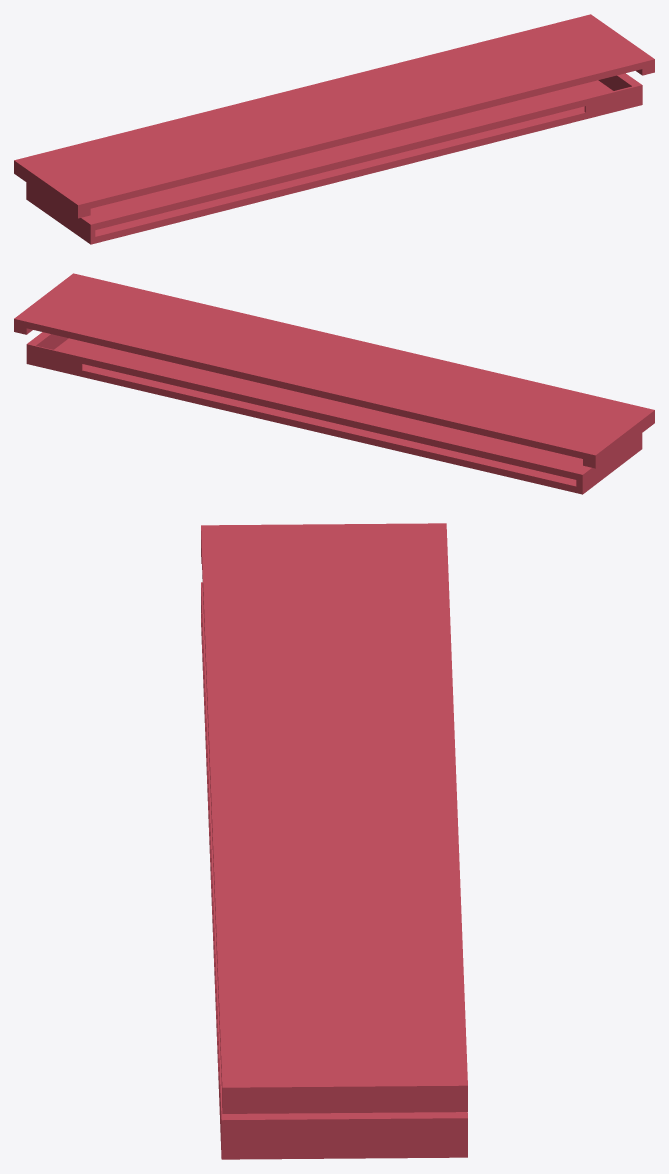
Rendered from Compartment Design #2.glb.
The picture shows the model from 3 angles, top to bottom: view 1: azimuth 30°, elevation 25°; view 2: azimuth 150°, elevation 25°; view 3: azimuth 270°, elevation 25°; orthographic projection. The views are drawn at different scales.
Parts seen in each view (by area): view 1: Mesh_Mesh_head_geo.001_lambert2SG.001; view 2: Mesh_Mesh_head_geo.001_lambert2SG.001; view 3: Mesh_Mesh_head_geo.001_lambert2SG.001.
Boxes of the visible parts, left/top/right/bottom form: Mesh_Mesh_head_geo.001_lambert2SG.001: left=14, top=14, right=654, bottom=244; Mesh_Mesh_head_geo.001_lambert2SG.001: left=14, top=273, right=654, bottom=494; Mesh_Mesh_head_geo.001_lambert2SG.001: left=201, top=523, right=467, bottom=1159.
Size of the model in its own units: 230 by 16 by 46.
